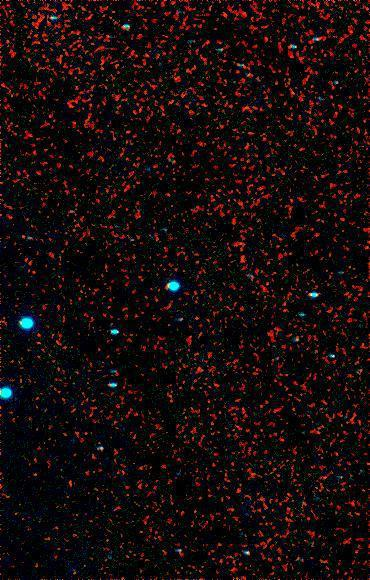star: (181, 305, 211, 335)
